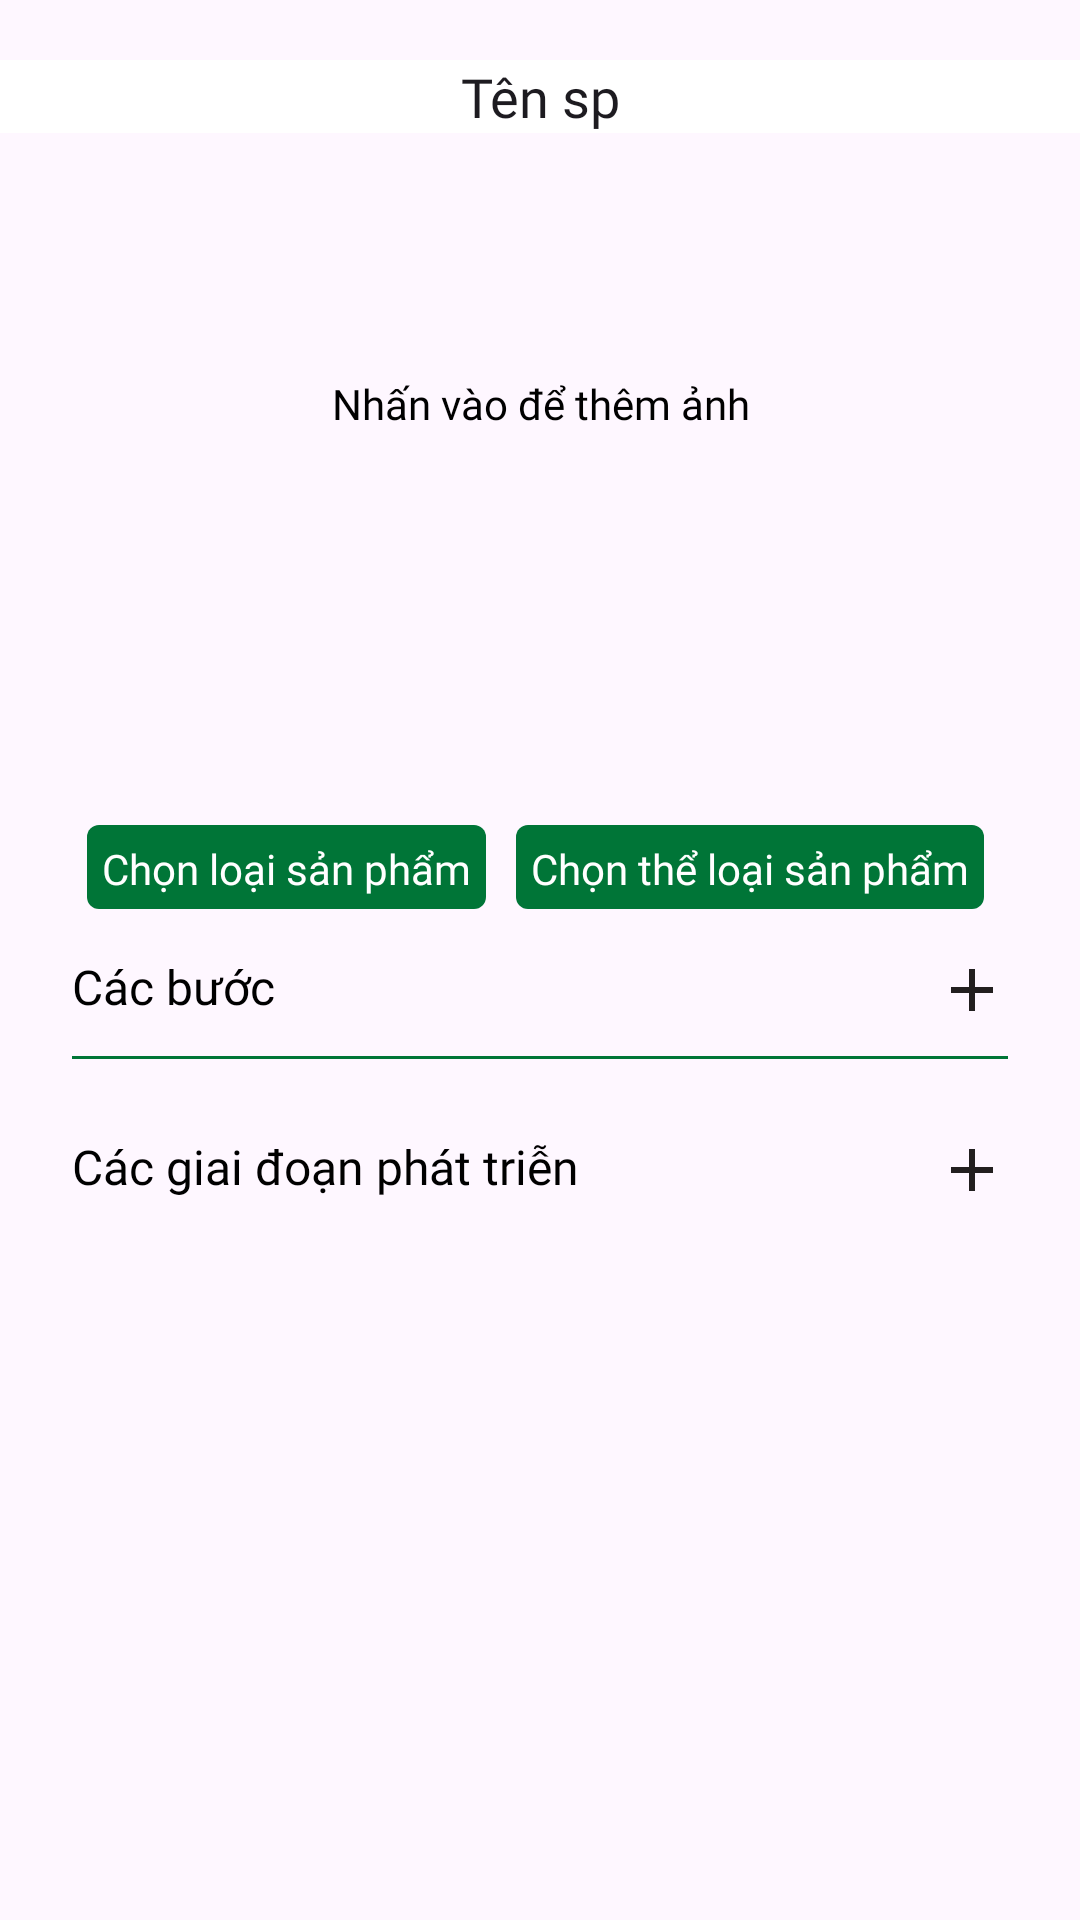

Icon bounding boxes for this 1080×1920 phone screenshot, format bbox(x1, y1, x2, y2):
add: bbox(951, 969, 993, 1011), bbox(951, 1149, 993, 1191)
